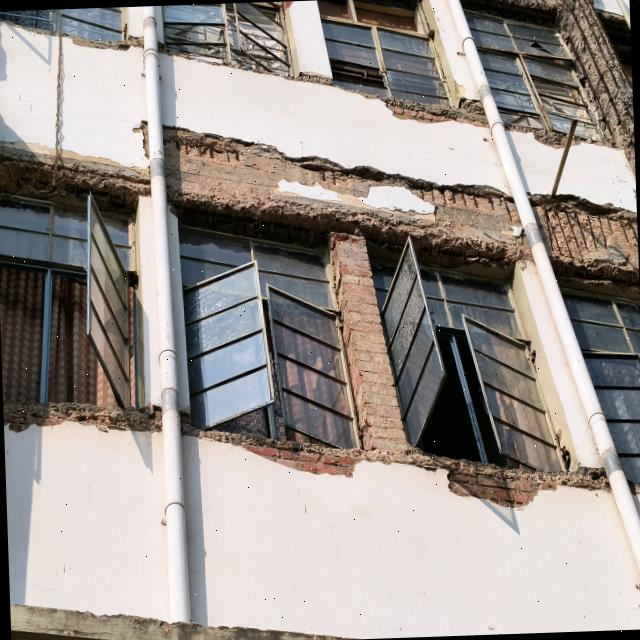Scaling: (165, 149, 322, 210), (435, 205, 513, 241), (348, 168, 408, 194)
Spalling: (255, 201, 521, 262), (555, 0, 635, 175), (535, 200, 639, 284), (406, 186, 519, 224), (164, 134, 251, 161), (495, 0, 556, 12), (322, 170, 349, 192)
exposed brickwork: (199, 233, 613, 507), (0, 142, 150, 216), (3, 401, 161, 431), (379, 97, 489, 127), (505, 123, 567, 146)
